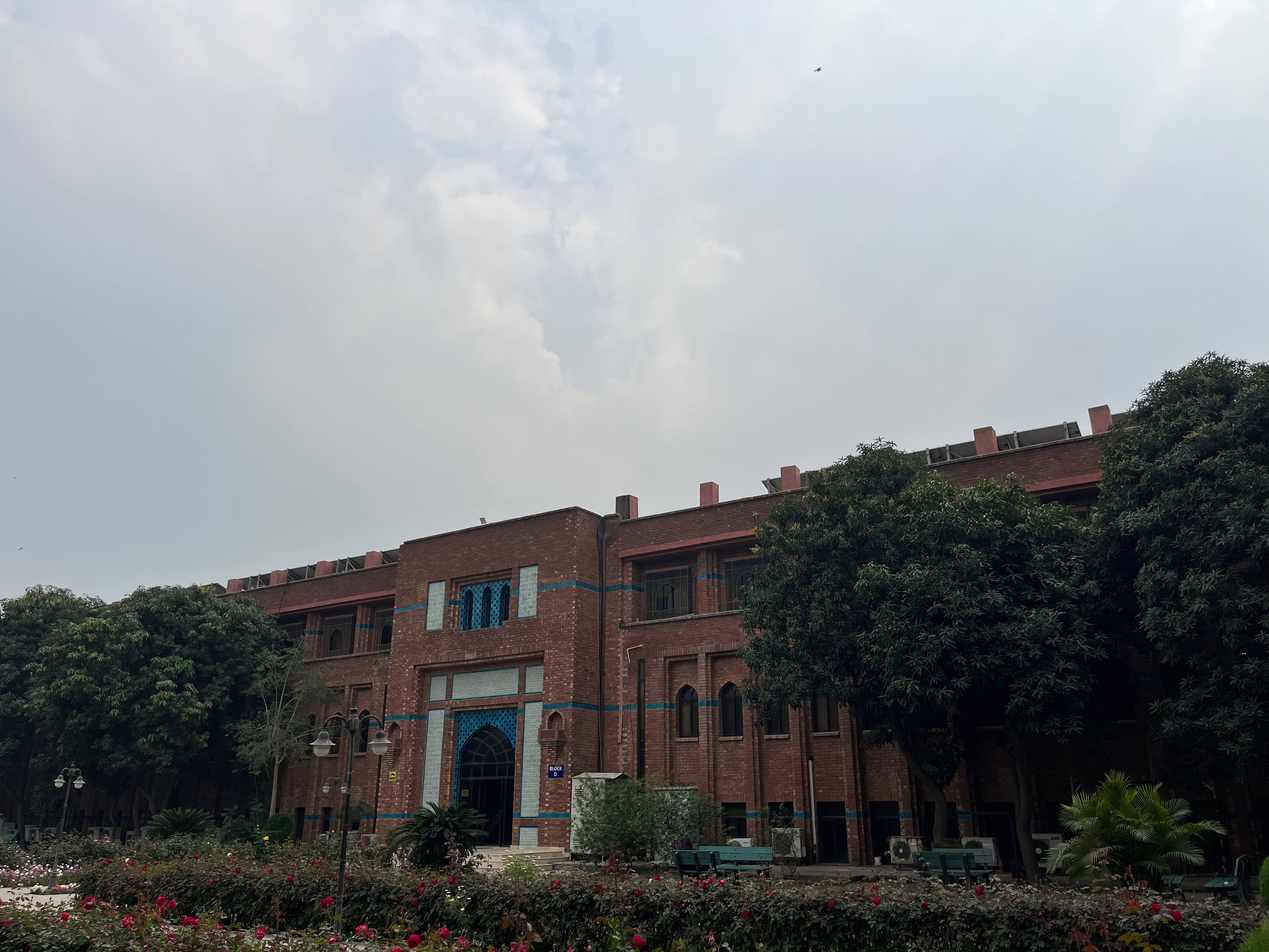Block D: (5, 399, 1269, 884)
